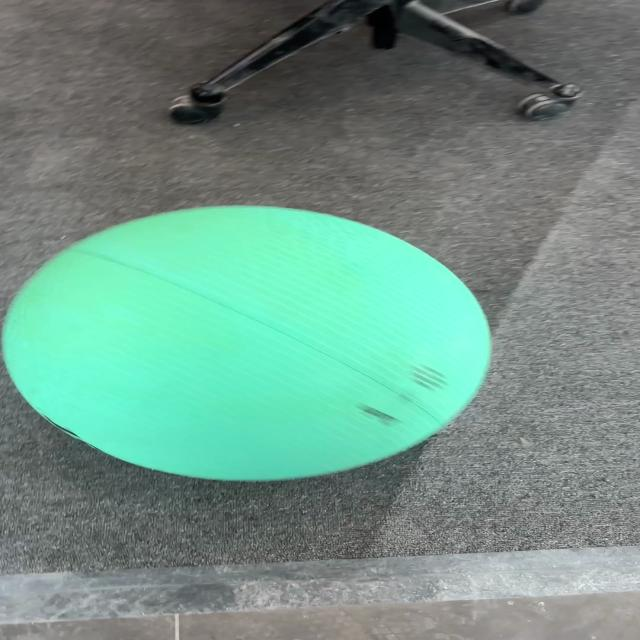Algae: (1, 204, 494, 482)
